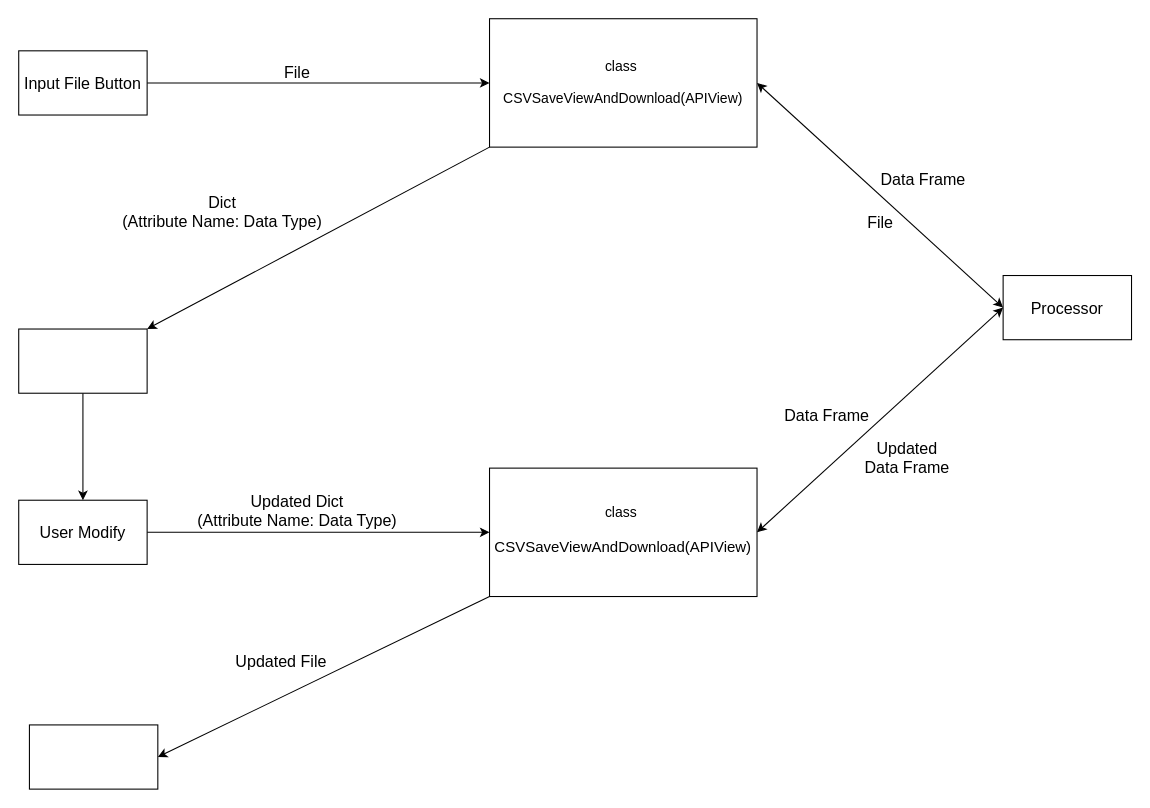
Some shapes in this 1150 by 808 pixel diagram are drawn without their labels. The shapes that lost their labels are listed below. From the top down, each one's centre as x and y in pixels, then its label:
the point at 82,360: Select Options Page
the point at 93,756: File downloaded
